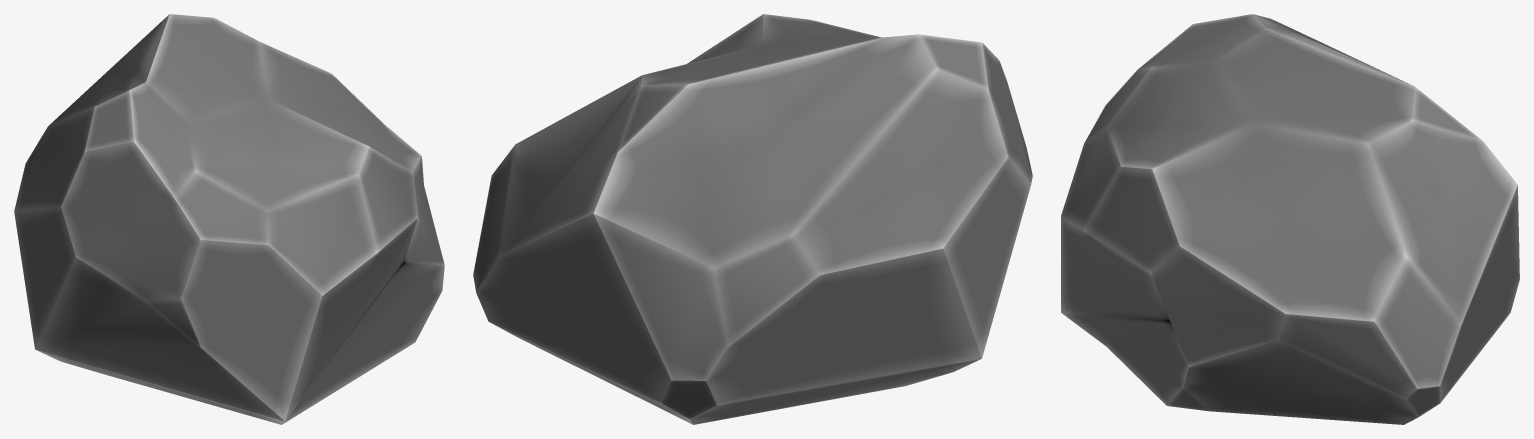
Rendered from Rock03.fbx.
3 renders of one model, left to right at view 1: azimuth 30°, elevation 25°; view 2: azimuth 150°, elevation 25°; view 3: azimuth 270°, elevation 25°, orthographic. The views are drawn at different scales.
Visible parts, largest first — view 1: Rock03_LOD0; view 2: Rock03_LOD0; view 3: Rock03_LOD0.
Boxes of the visible parts, box(x1,y1,x2,y2) form: Rock03_LOD0: box(14, 14, 444, 424); Rock03_LOD0: box(473, 14, 1032, 424); Rock03_LOD0: box(1061, 14, 1519, 424).
Size of what is drawn, in the model's own units: 117 by 84.99 by 120.
1 material, 1 textured.
